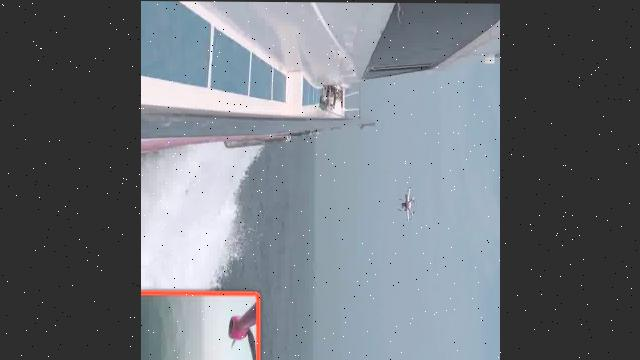drone: (140, 1, 185, 360)
